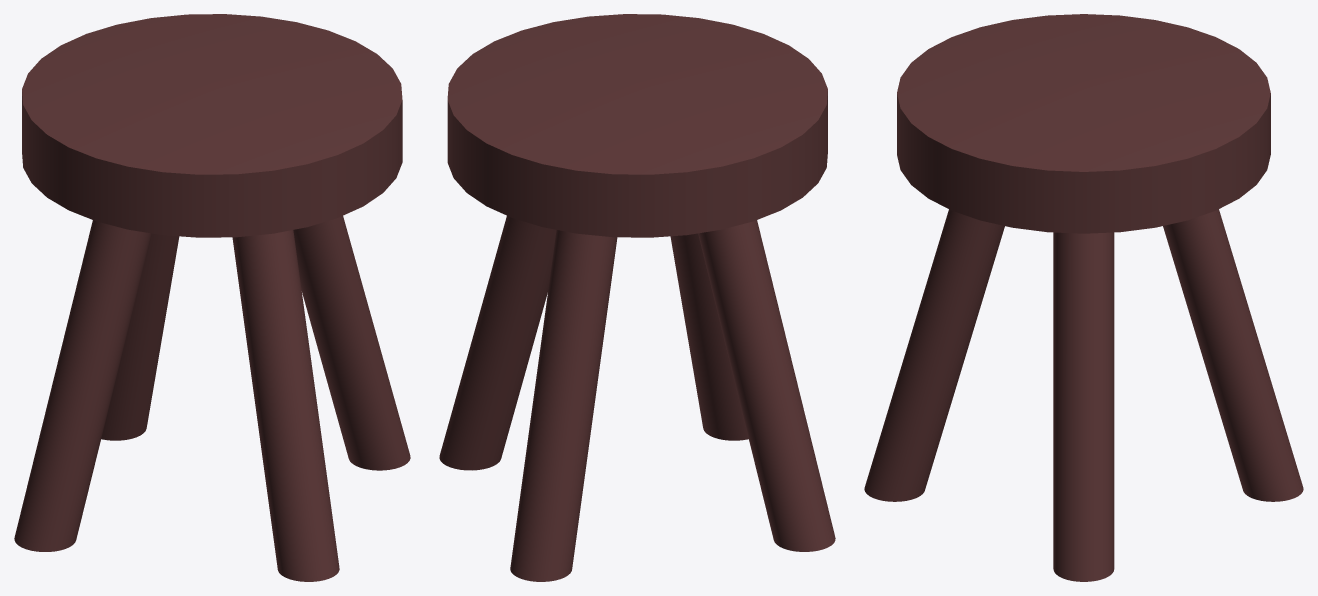
The model's file is Tabouret1_1.fbx.
The picture shows the model from 3 angles, left to right: view 1: azimuth 30°, elevation 25°; view 2: azimuth 150°, elevation 25°; view 3: azimuth 270°, elevation 25°; orthographic projection.
Visible parts, largest first — view 1: pCylinder1599, pCylinder1632; view 2: pCylinder1599, pCylinder1632; view 3: pCylinder1599, pCylinder1632.
Part boxes in pixels (x1,y1,x2,y2): pCylinder1599: (22, 14, 402, 237); pCylinder1632: (14, 216, 410, 581); pCylinder1599: (447, 14, 827, 237); pCylinder1632: (439, 216, 835, 581); pCylinder1599: (897, 14, 1270, 233); pCylinder1632: (864, 209, 1303, 581).
Size of the model in its own units: 41.39 by 42.19 by 41.38.
